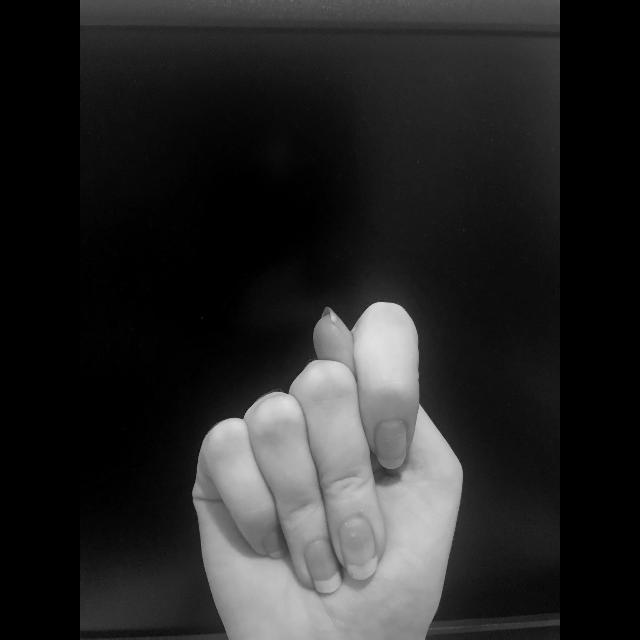T: (186, 296, 469, 640)
